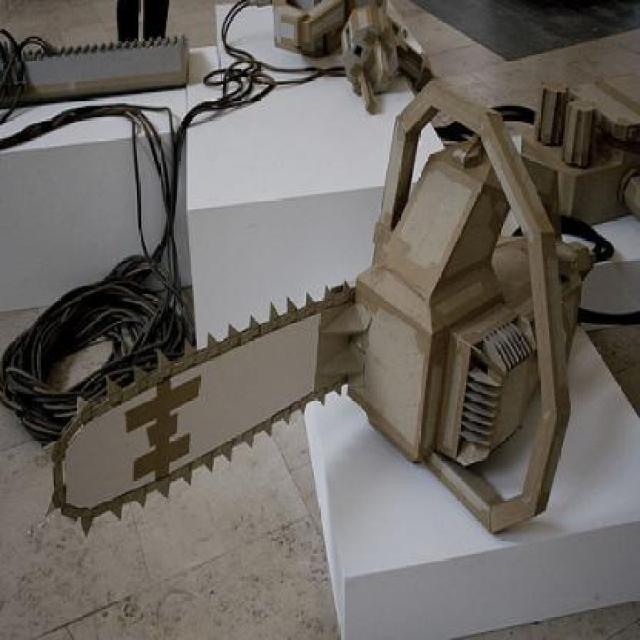Chainsaw: (38, 76, 594, 538)
